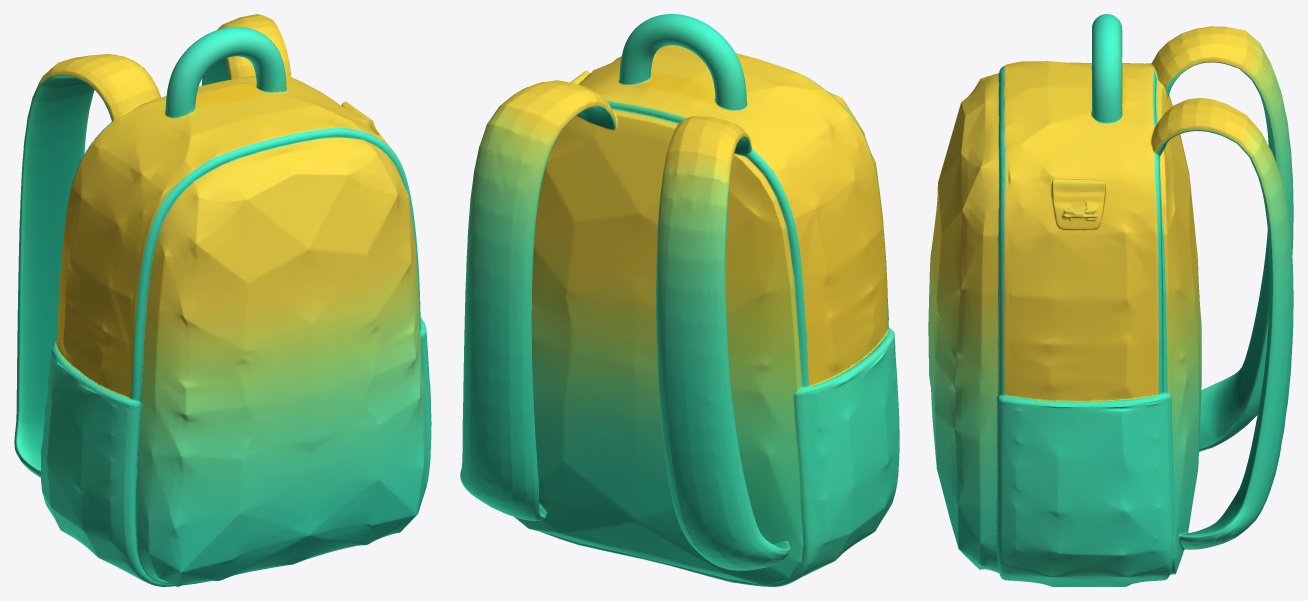
Rendered from Bag_Meshy.glb.
3 views of the same model, side by side, from view 1: azimuth 30°, elevation 25°; view 2: azimuth 150°, elevation 25°; view 3: azimuth 270°, elevation 25° (orthographic). The views are drawn at different scales.
Parts seen in each view (by area): view 1: Mesh_0; view 2: Mesh_0; view 3: Mesh_0.
Part boxes in pixels (x1,y1,x2,y2): Mesh_0: [14, 14, 431, 586]; Mesh_0: [460, 14, 899, 586]; Mesh_0: [928, 14, 1293, 586].
Size of the model in its own units: 0.4249 by 0.6 by 0.3872.
1 material, 1 textured.
